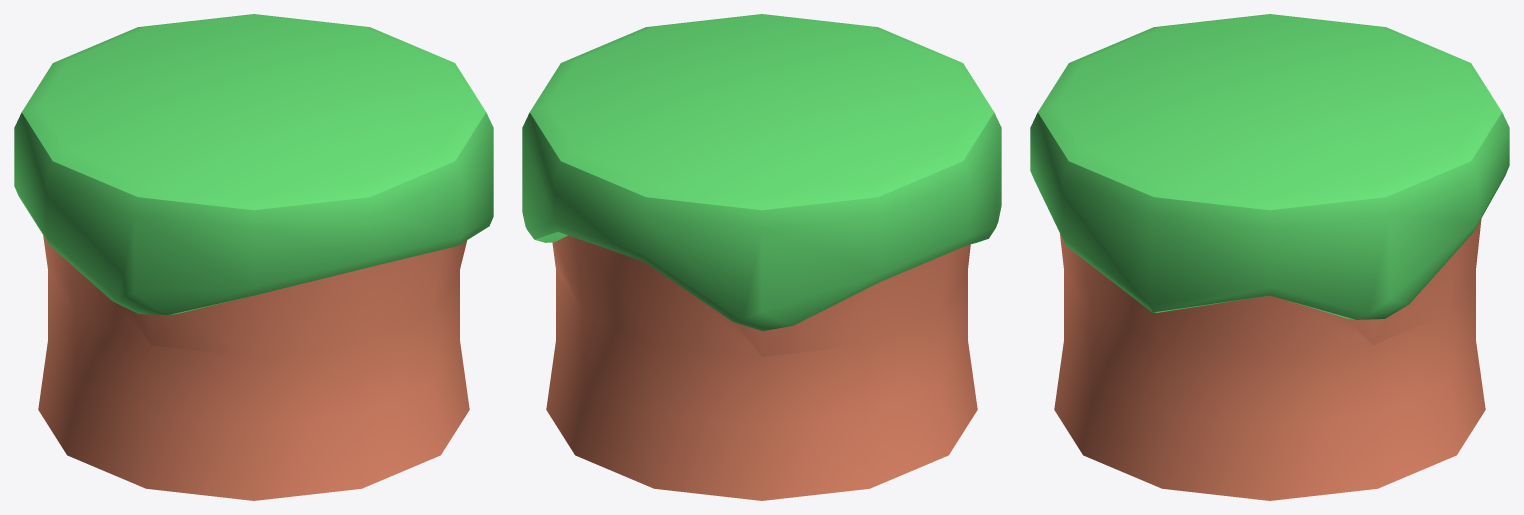
The model's file is Hill_D.fbx.
3 views of the same model, side by side, from view 1: azimuth 30°, elevation 25°; view 2: azimuth 150°, elevation 25°; view 3: azimuth 270°, elevation 25° (orthographic).
Parts seen in each view (by area): view 1: Hill_D; view 2: Hill_D; view 3: Hill_D.
Part boxes in pixels (bbox=[...]): Hill_D: bbox=[14, 14, 493, 500]; Hill_D: bbox=[522, 14, 1001, 500]; Hill_D: bbox=[1030, 14, 1509, 500].
Bounding box in the file's own units: 373 × 261 × 373.
